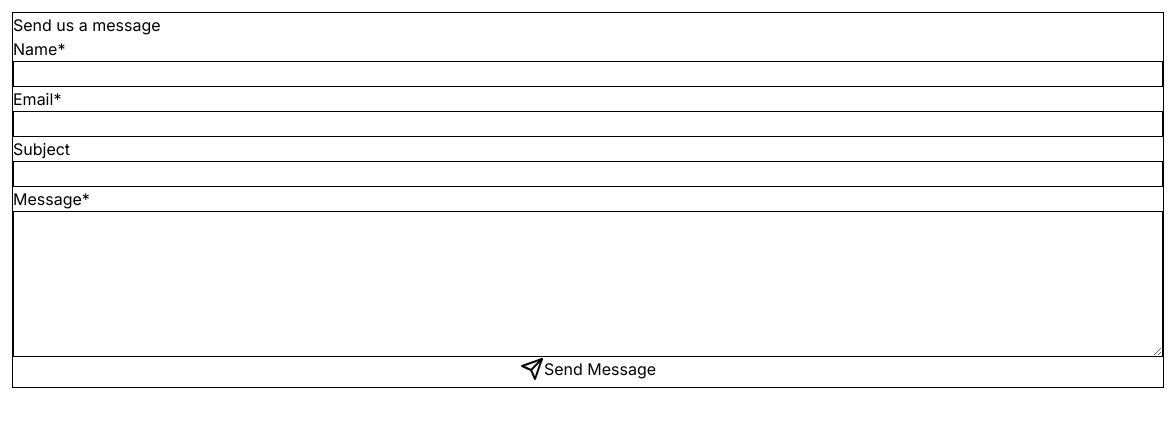
Test: ContactForm Component › should show success message after submission
This screenshot has width=1176, height=431.
Type "John Doe" into the field labelled "Name*". click: [588, 74]
box: [13,61,1163,87]
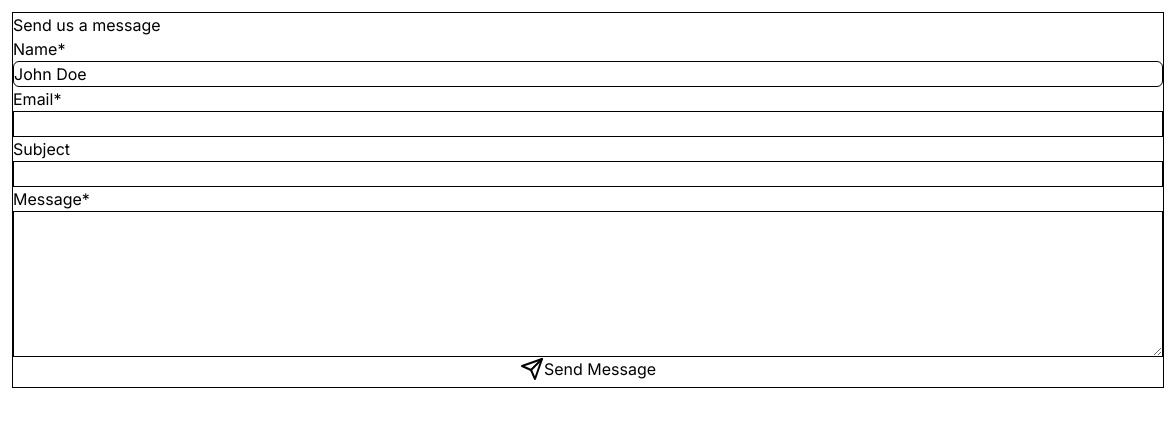
Type "john@example.com" into the field labelled "Email*". click: [588, 124]
box: [13,111,1163,137]
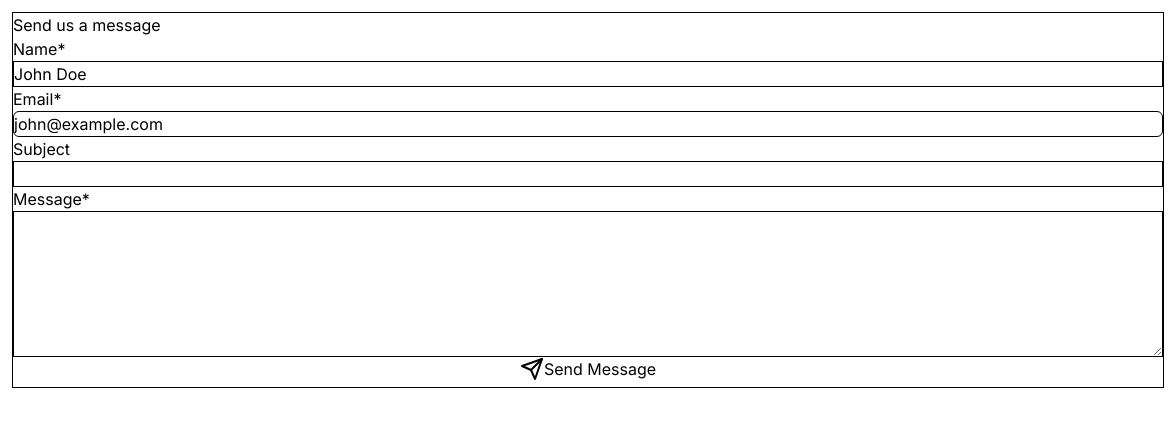
Type "Test Subject" into the field labelled "Subject". click: [588, 174]
box: [13,161,1163,187]
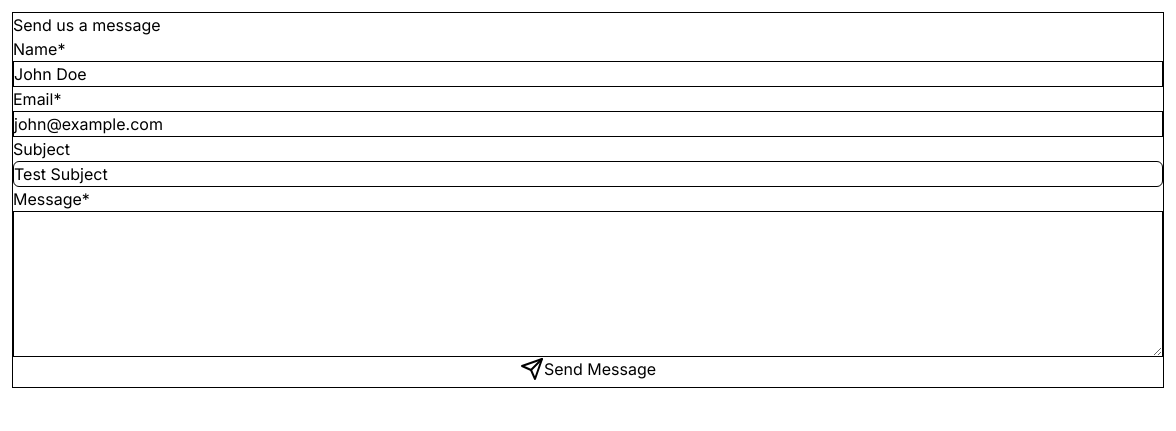
// Message must be at least 10 characters per schema
Type "This is a test message with enough content" into the text box labelled "Message*". click: [588, 284]
box: [13,211,1163,357]
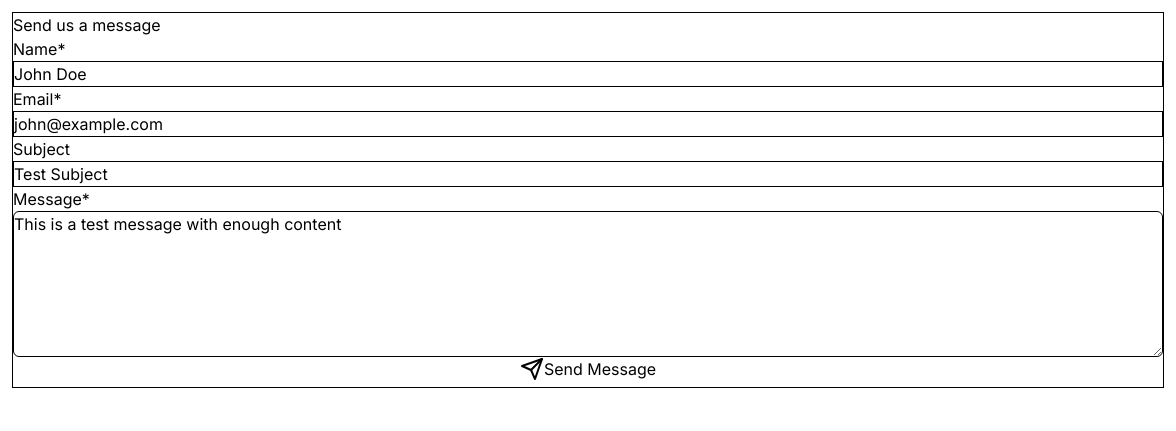
Click the button "Send Message". click: [588, 369]
box: [13,357,1163,381]
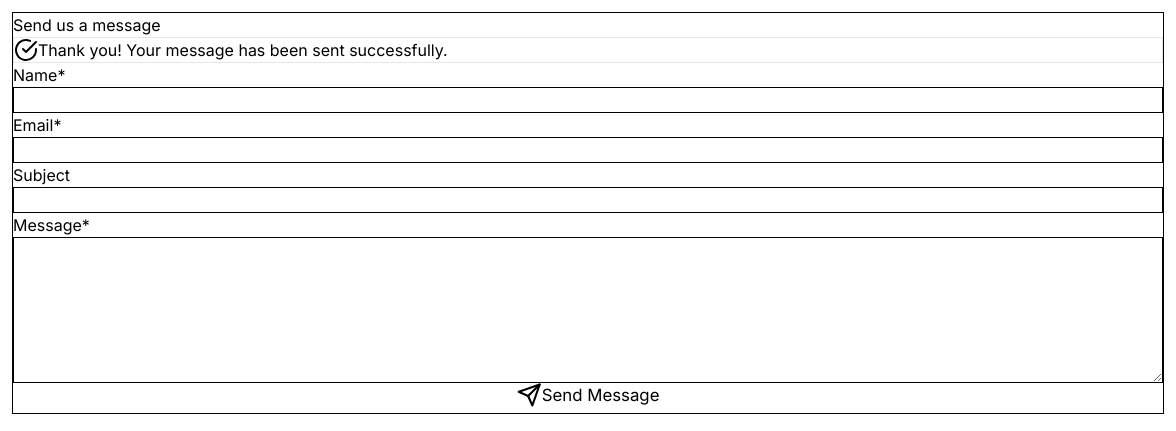
Expected: the text "Thank you! Your message has been sent successfully." is shown, [38,38,448,62]
